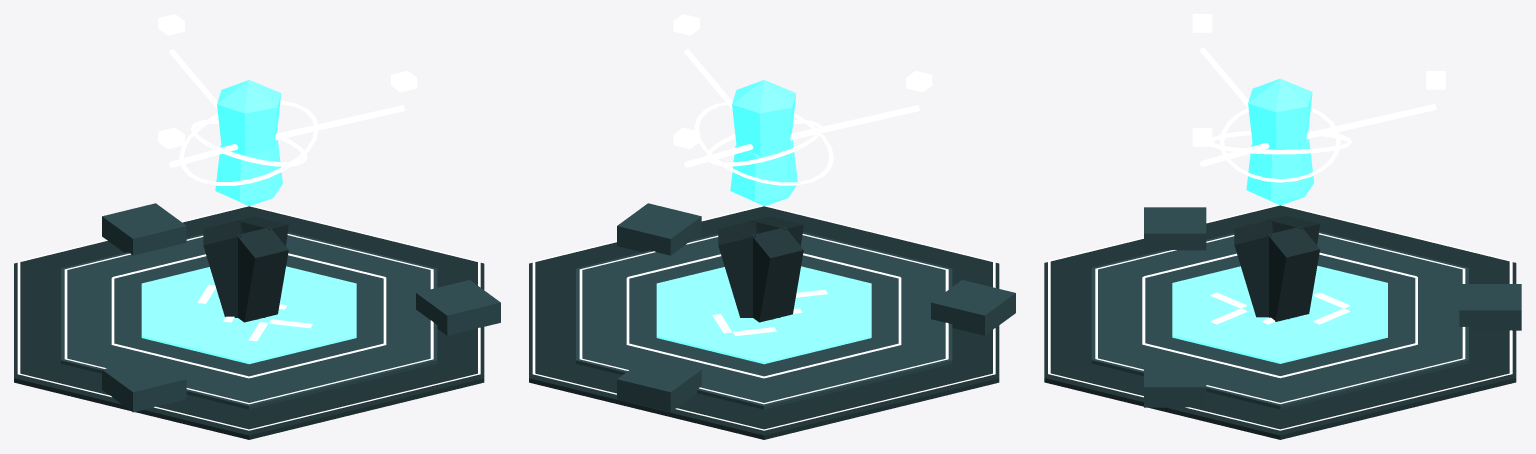
The model's file is HexSpeedPad_Roblox.fbx.
3 views of the same model, side by side, from view 1: azimuth 30°, elevation 25°; view 2: azimuth 150°, elevation 25°; view 3: azimuth 270°, elevation 25° (orthographic).
Visible parts, largest first — view 1: TrimPlate, DarkPlate, BoostPad, AccentNeon, EnergyGlass; view 2: TrimPlate, DarkPlate, BoostPad, AccentNeon, EnergyGlass; view 3: TrimPlate, DarkPlate, BoostPad, AccentNeon, EnergyGlass.
Boxes of the visible parts, x1,y1,x2,y2 form: TrimPlate: (61,203,500,412); DarkPlate: (14,206,484,439); BoostPad: (141,266,356,364); AccentNeon: (17,14,480,430); EnergyGlass: (215,80,282,206); TrimPlate: (576,203,1015,412); DarkPlate: (529,206,999,439); BoostPad: (656,266,871,364); AccentNeon: (532,14,995,430); EnergyGlass: (730,80,797,206); TrimPlate: (1091,207,1521,409); DarkPlate: (1044,205,1516,439); BoostPad: (1172,265,1387,363); AccentNeon: (1048,14,1512,430); EnergyGlass: (1246,78,1314,205).
Size of the model in its own units: 1400 by 968 by 1226.
